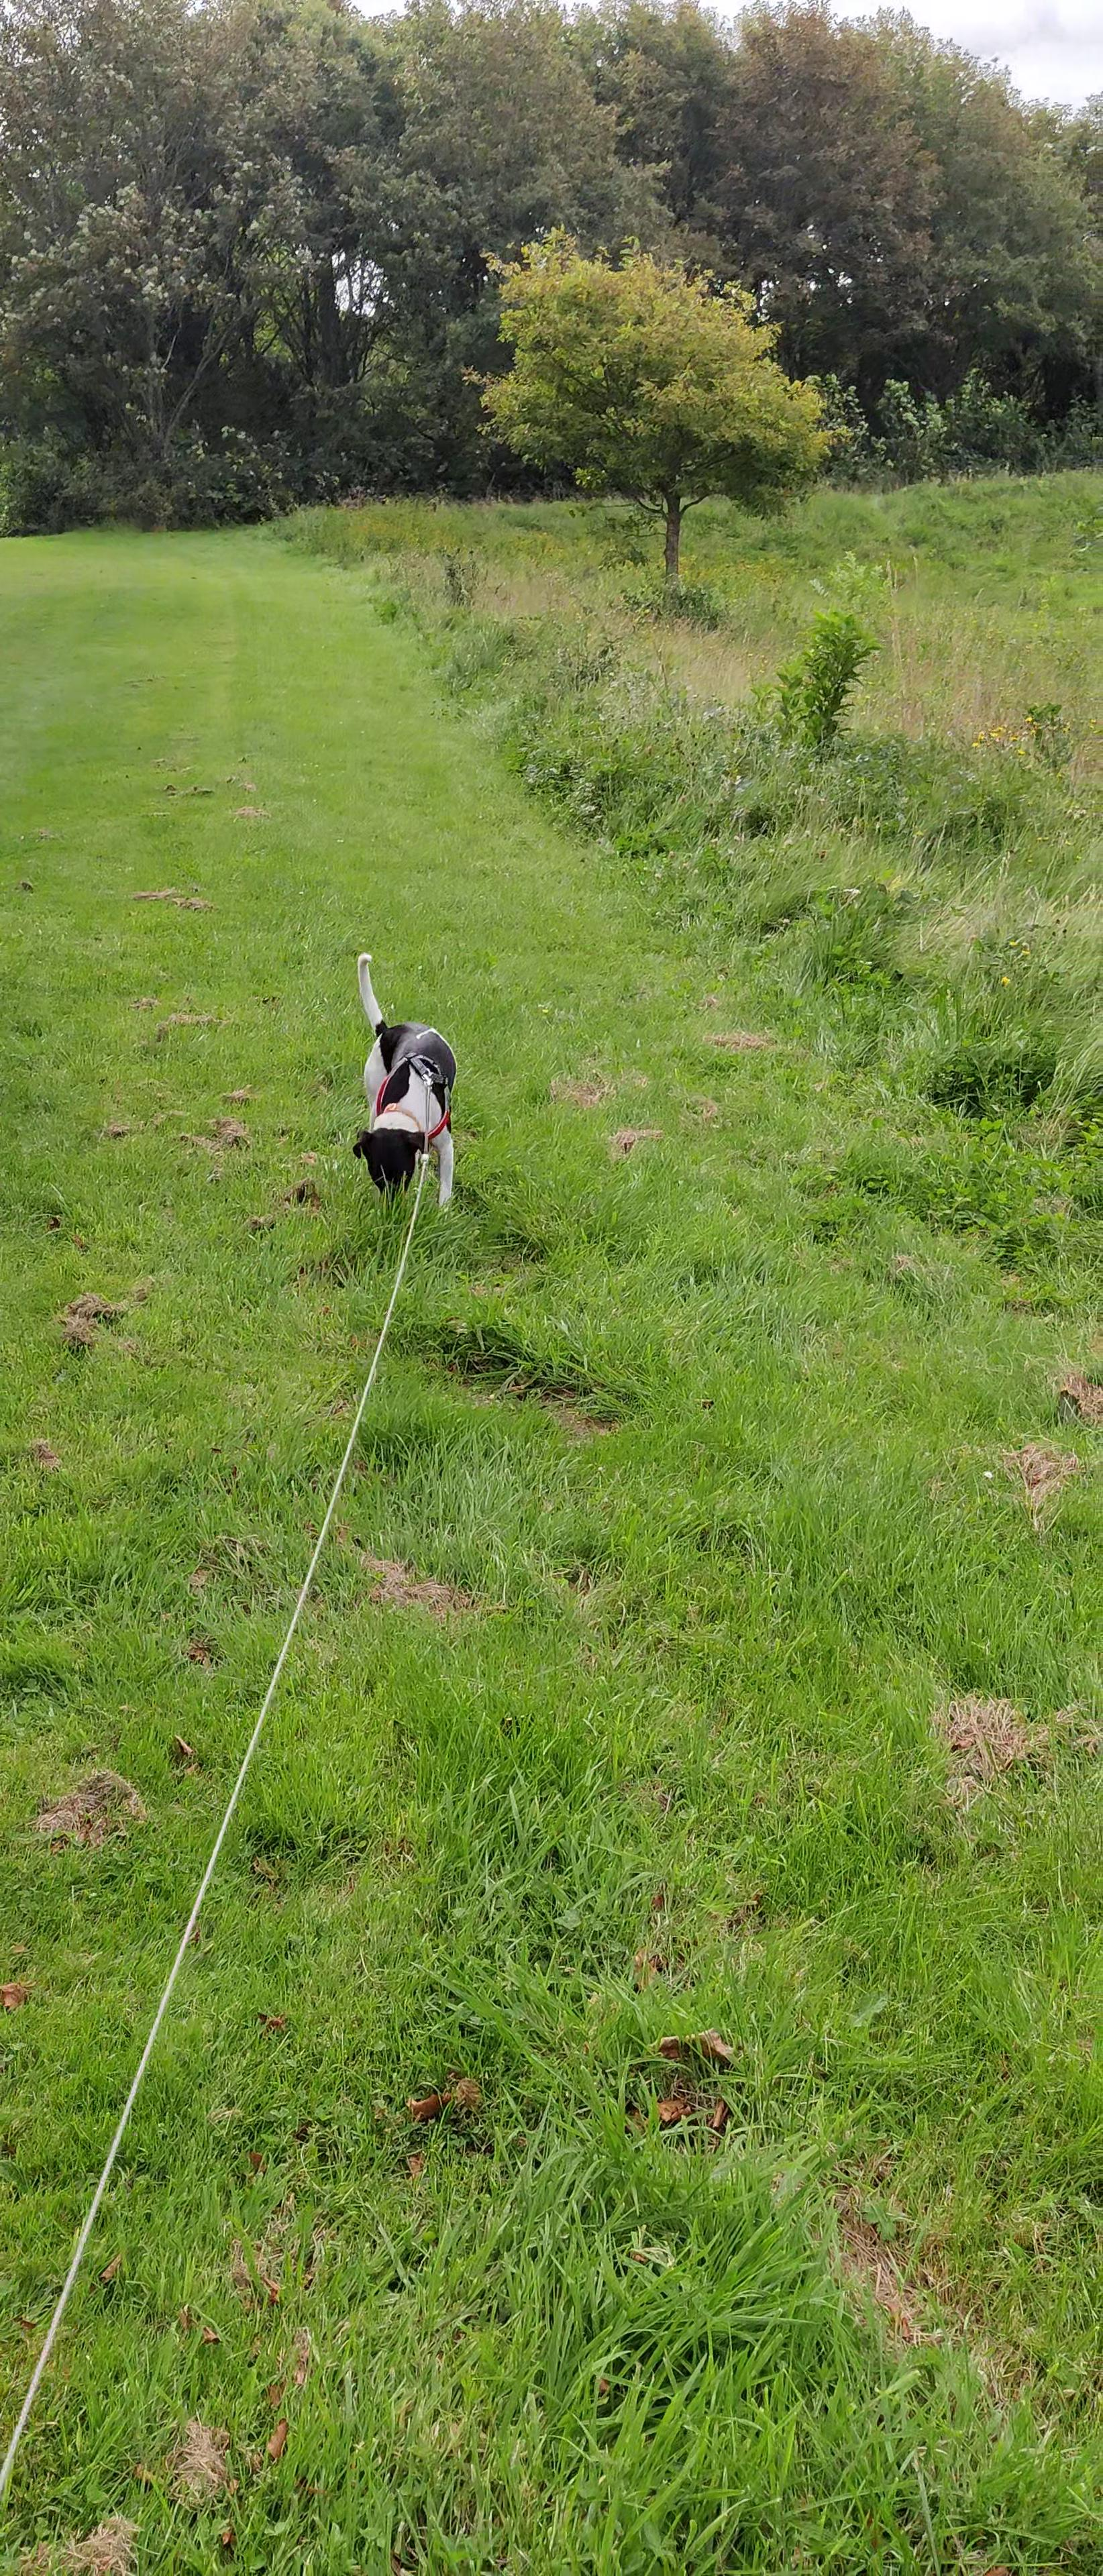Dog: (335, 948, 465, 1221)
